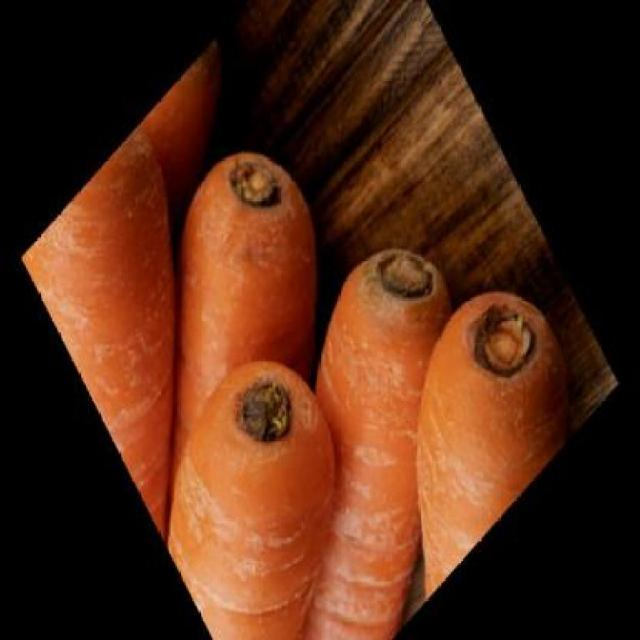carrot: (145, 202, 543, 640), (195, 242, 596, 638), (61, 109, 368, 546), (22, 122, 282, 536), (132, 316, 416, 638), (123, 31, 271, 242)
